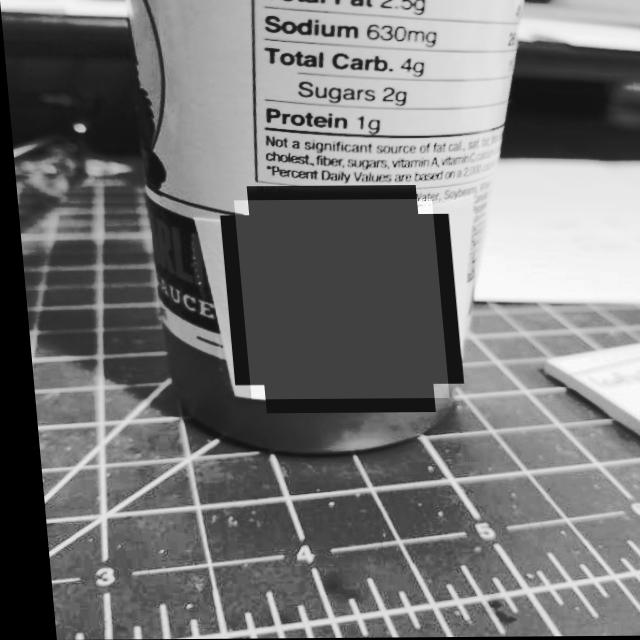qr_code: (230, 200, 442, 400)
